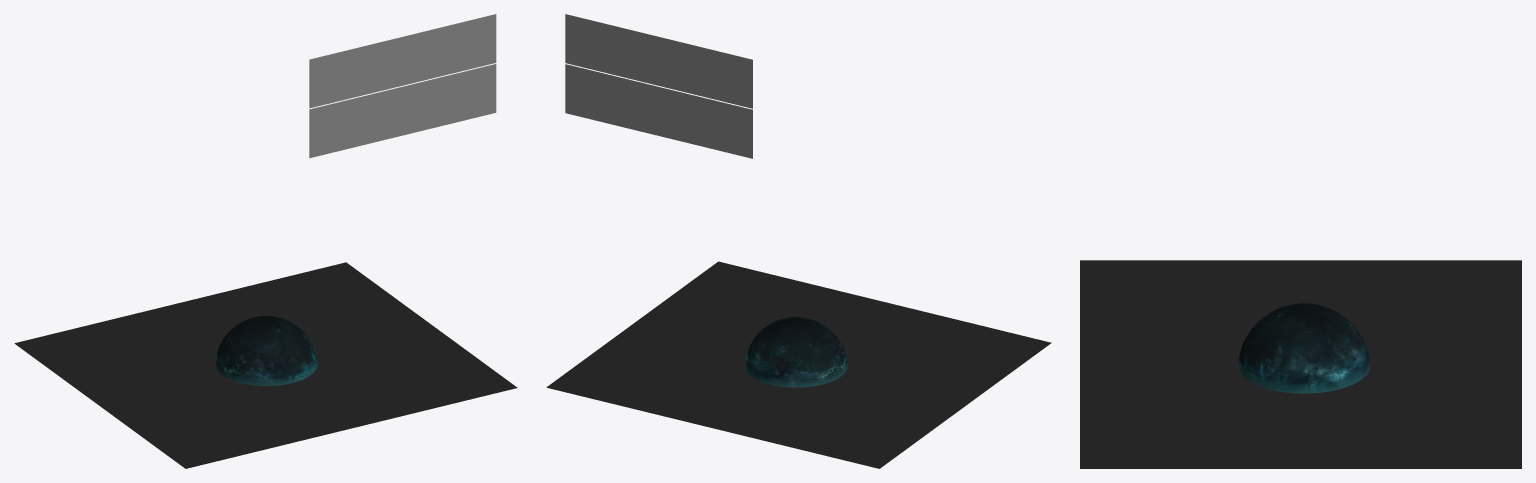
File: skybox.obj
3 renders of one model, left to right at view 1: azimuth 30°, elevation 25°; view 2: azimuth 150°, elevation 25°; view 3: azimuth 270°, elevation 25°, orthographic. The views are drawn at different scales.
Visible parts, largest first — view 1: Plane001, Plane002, Plane003, Sphere001; view 2: Plane001, Plane003, Plane002, Sphere001; view 3: Plane001, Sphere001.
Boxes of the visible parts, bbox=[...] form: Plane001: bbox=[14, 262, 517, 468]; Plane002: bbox=[309, 14, 496, 108]; Plane003: bbox=[309, 64, 496, 158]; Sphere001: bbox=[215, 316, 317, 385]; Plane001: bbox=[546, 261, 1051, 468]; Plane003: bbox=[565, 64, 752, 158]; Plane002: bbox=[565, 14, 752, 108]; Sphere001: bbox=[744, 317, 847, 387]; Plane001: bbox=[1080, 260, 1521, 468]; Sphere001: bbox=[1238, 303, 1370, 393].
Size of the model in its own units: 277 by 198 by 207.
